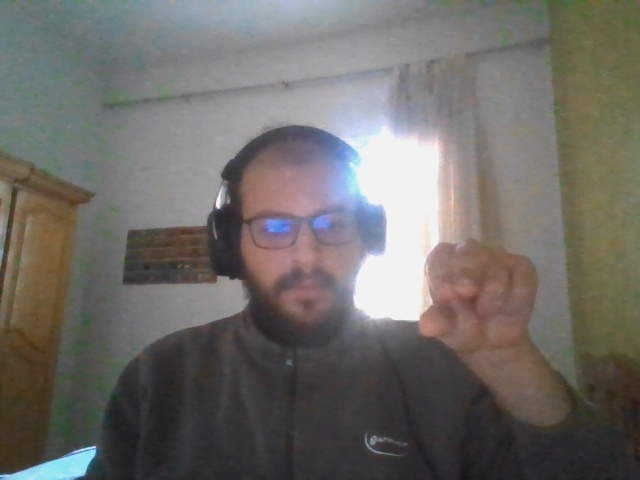No: (420, 242, 536, 350)
